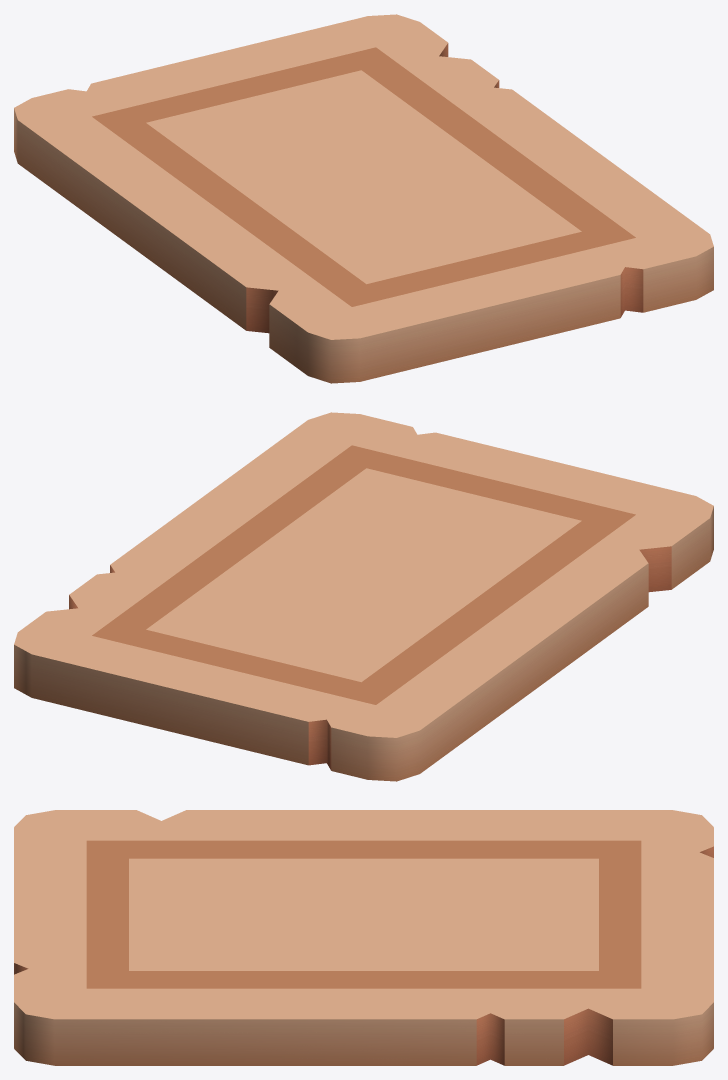
The picture shows the model from 3 angles, top to bottom: view 1: azimuth 30°, elevation 25°; view 2: azimuth 150°, elevation 25°; view 3: azimuth 270°, elevation 25°; orthographic projection. The views are drawn at different scales.
Parts seen in each view (by area): view 1: cutting-board; view 2: cutting-board; view 3: cutting-board.
Boxes of the visible parts, x1,y1,x2,y2 form: cutting-board: (14, 14, 713, 383); cutting-board: (14, 412, 713, 781); cutting-board: (14, 810, 713, 1065).
Bounding box in the file's own units: 0.2432 × 0.0252 × 0.3439.
Materials: 1 (1 with a texture image).
